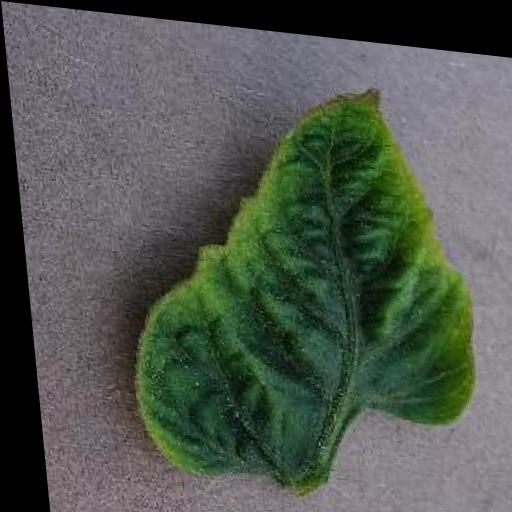Yellow Leaf Curl Virus: (103, 49, 479, 503)
